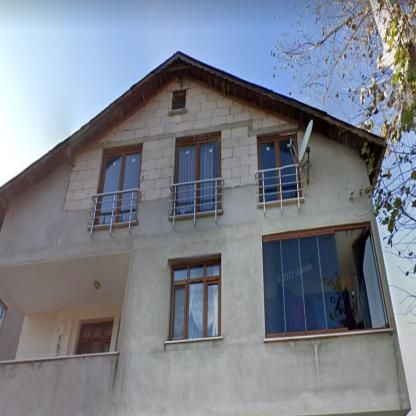window: (264, 223, 388, 334), (171, 262, 219, 338), (96, 149, 141, 224), (176, 139, 219, 213), (260, 134, 297, 201), (77, 322, 112, 352), (174, 95, 184, 108)
